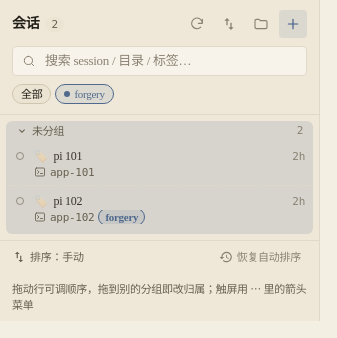
Test: LiveSessionsList sidebar › searches across title, directory and tags
Check: the button titled "#forgery · 1 个 session" below "会话" is shown, box [56, 84, 114, 104]
Type "forgery" into the search field with placeholder "搜索 session / 目录 / 标签…" at {"x": 160, "y": 61}, box [12, 46, 307, 76]
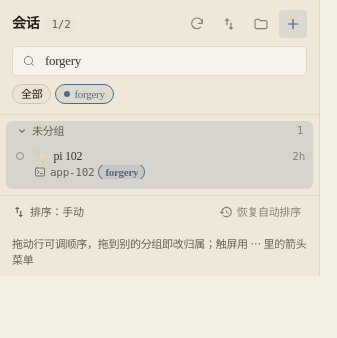
Check: the text "pi 102" is shown, box [54, 149, 82, 163]
Check: the button "pi 101" is gone
Replace the text in the search field with placeholder "搜索 session / 目录 / 标签…" with "app-101" at {"x": 160, "y": 61}, box [12, 46, 307, 76]
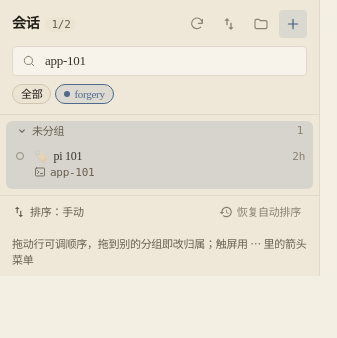
Check: the text "pi 101" is shown, box [54, 149, 82, 163]
Check: the button "pi 102" is gone
